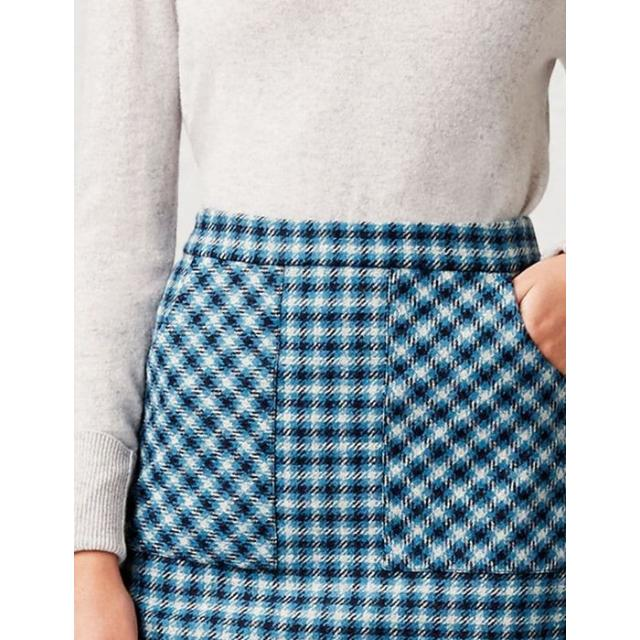wool: (74, 0, 566, 640)
